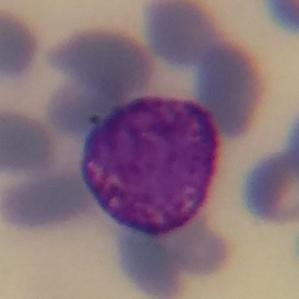Basophil: (78, 84, 221, 241)
RBC: (44, 23, 157, 111), (194, 40, 264, 138), (114, 221, 190, 299), (138, 0, 221, 71), (236, 142, 299, 229), (0, 167, 76, 235), (164, 219, 235, 279), (0, 107, 55, 178), (0, 4, 43, 82), (257, 0, 299, 39), (281, 104, 299, 183)
